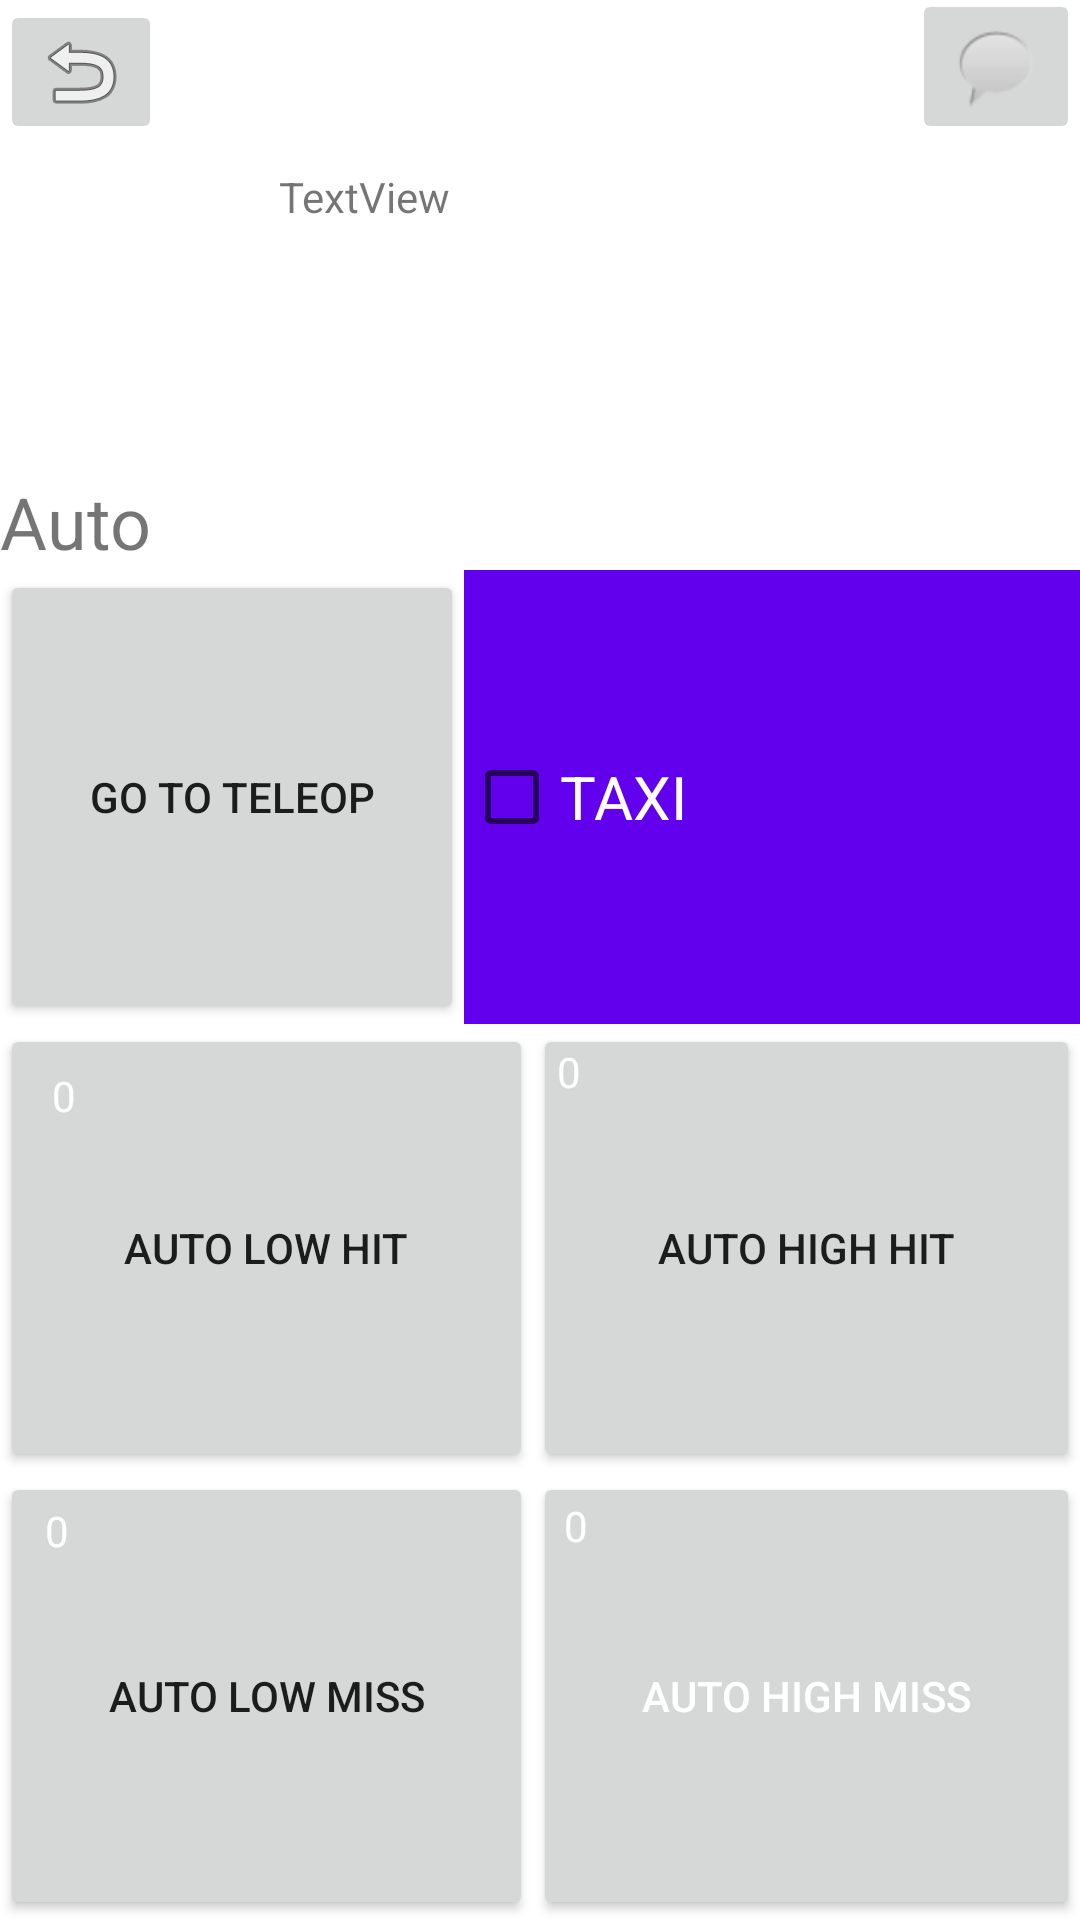

Named icons in this screenshot (1080px×1920px) and their bounding boxes, (x1, y1, x2, y2):
revert: (12, 18, 150, 126)
sym action chat: (924, 7, 1068, 126)
